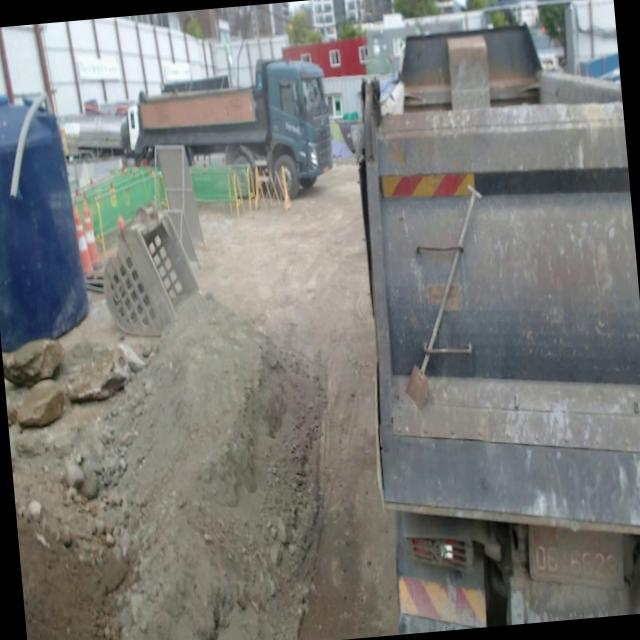red-sand: (16, 515, 131, 640)
stone: (65, 344, 136, 402), (2, 340, 64, 386), (16, 380, 65, 427)
white-sand: (198, 161, 397, 640), (120, 297, 326, 640)
